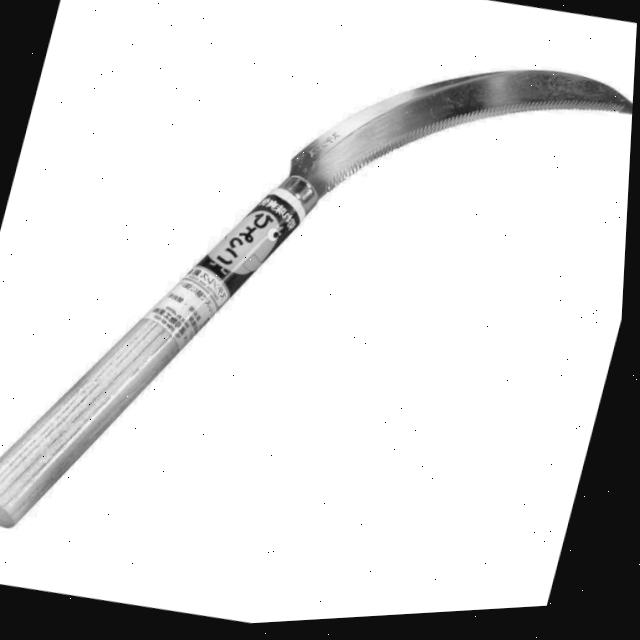celurit: (0, 49, 633, 536)
